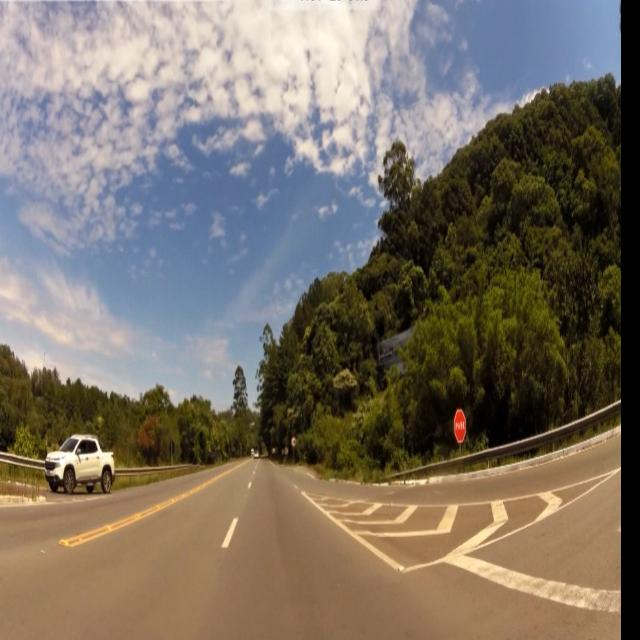R-1: (452, 407, 468, 449)
